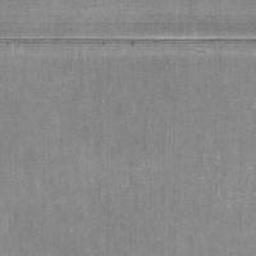Welding line: (0, 37, 256, 46)
